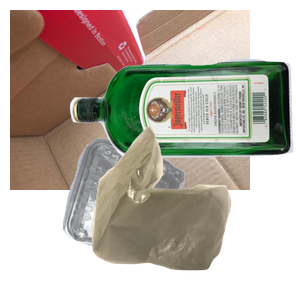cardboard: (10, 10, 250, 190)
glass: (67, 56, 300, 206)
plastic: (60, 136, 237, 300)
trash: (89, 124, 300, 300)
